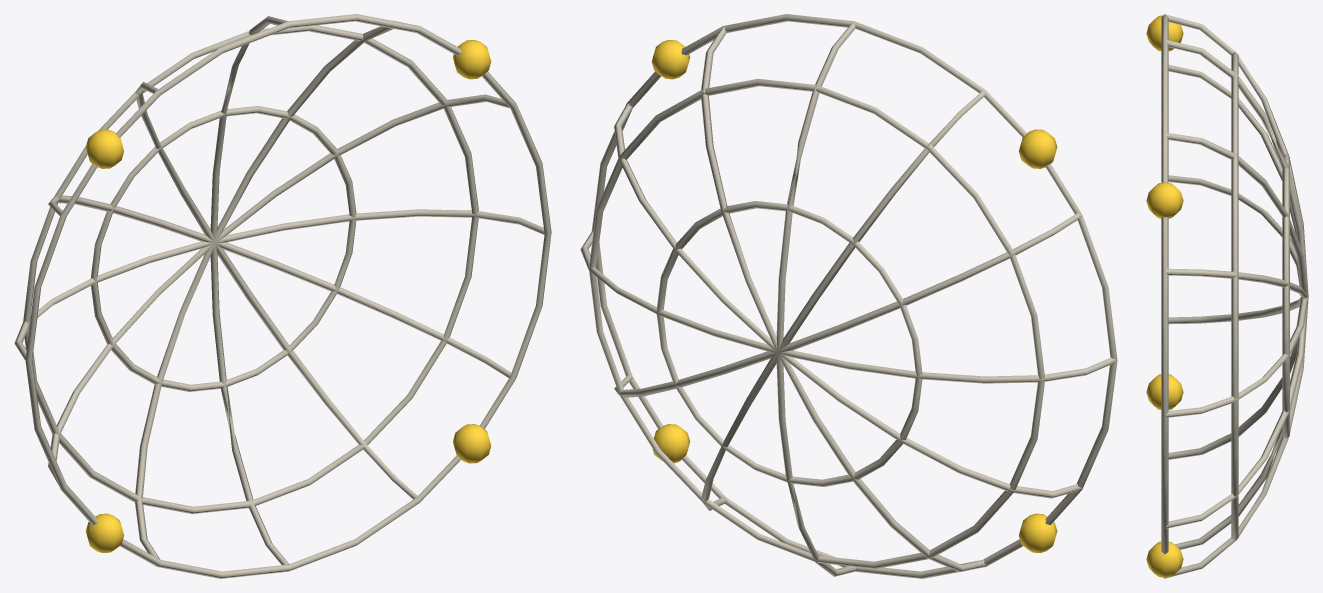
Rendered from net_projectile.glb.
The picture shows the model from 3 angles, left to right: view 1: azimuth 30°, elevation 25°; view 2: azimuth 150°, elevation 25°; view 3: azimuth 270°, elevation 25°; orthographic projection. The views are drawn at different scales.
Parts seen in each view (by area): view 1: main; view 2: main; view 3: main.
Boxes of the visible parts, x1,y1,x2,y2 form: main: (14,14,551,578); main: (580,14,1117,578); main: (1146,14,1308,578).
Bounding box in the file's own units: 1.22 × 1.22 × 0.348.
